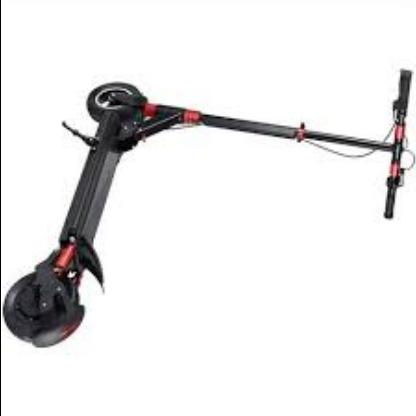bike: (3, 80, 414, 351)
